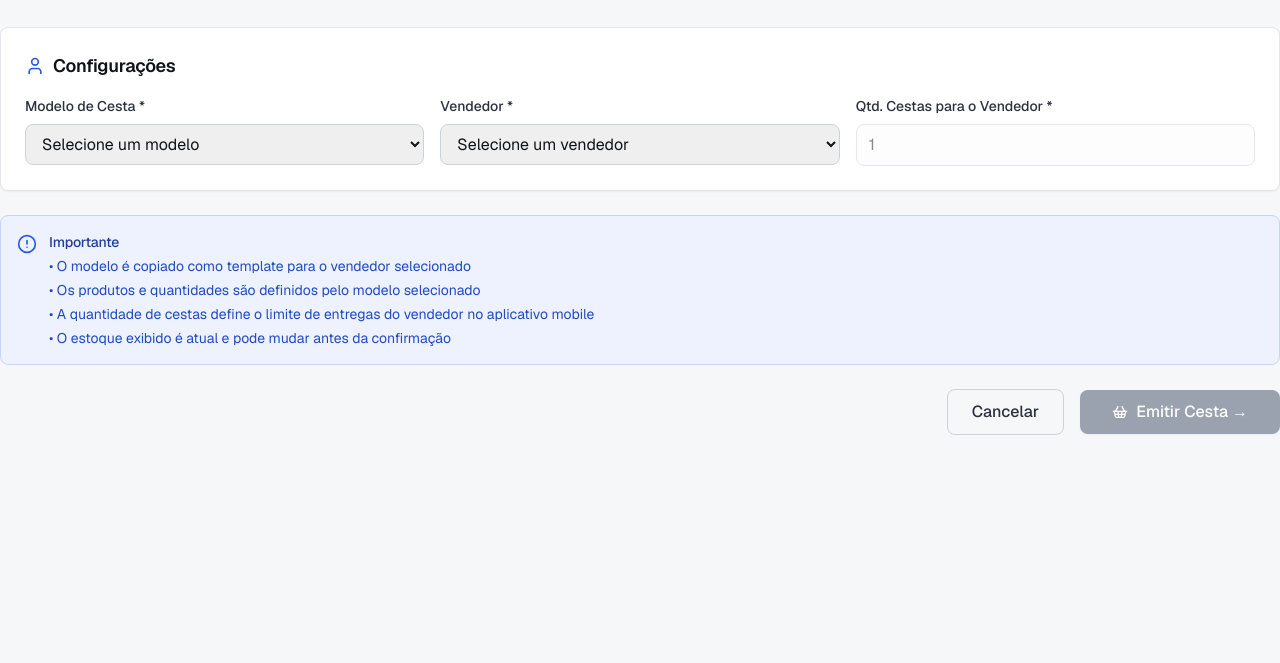
Test: NovaCesta — distribuição via CestaBaseService › 10. erro genérico é exibido no banner
The width and height of the screenshot is (1280, 663).
Select "Cesta Básica — R$ 100,00" in the dropdown below "Modelo de Cesta *" at [225, 144], box [25,124,424,165]
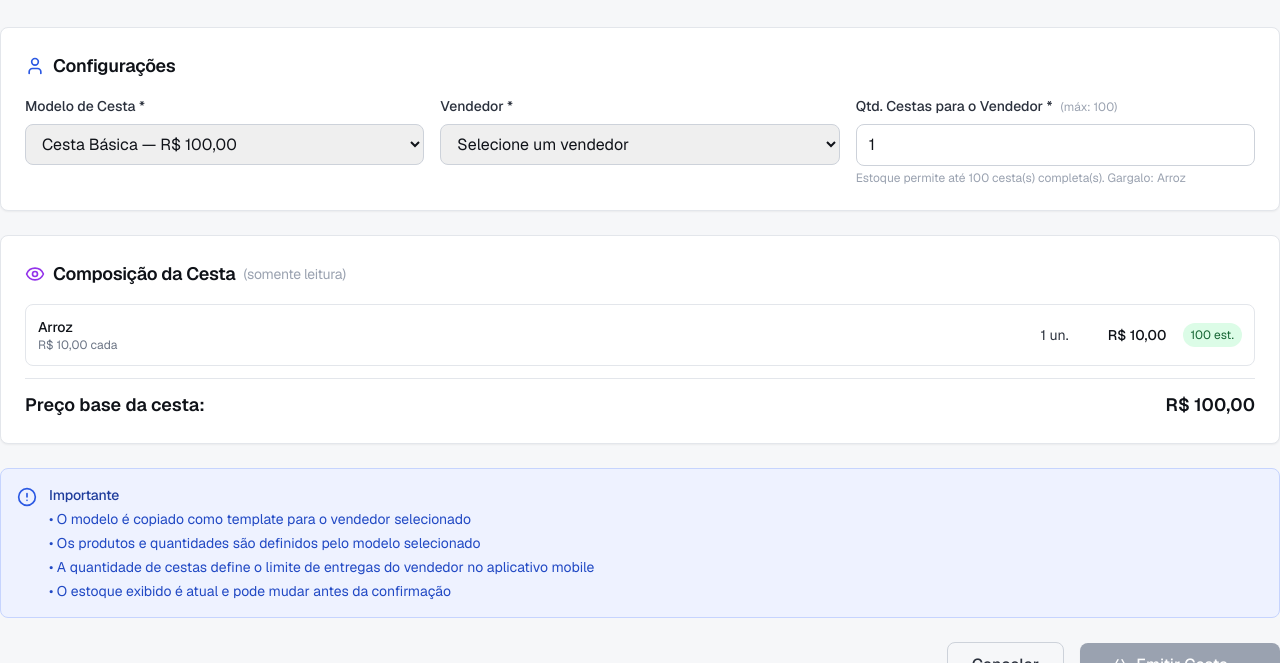
Select "Vendedor Um" in the 2nd dropdown at [640, 144], box [440,124,840,165]
(page scrolled)
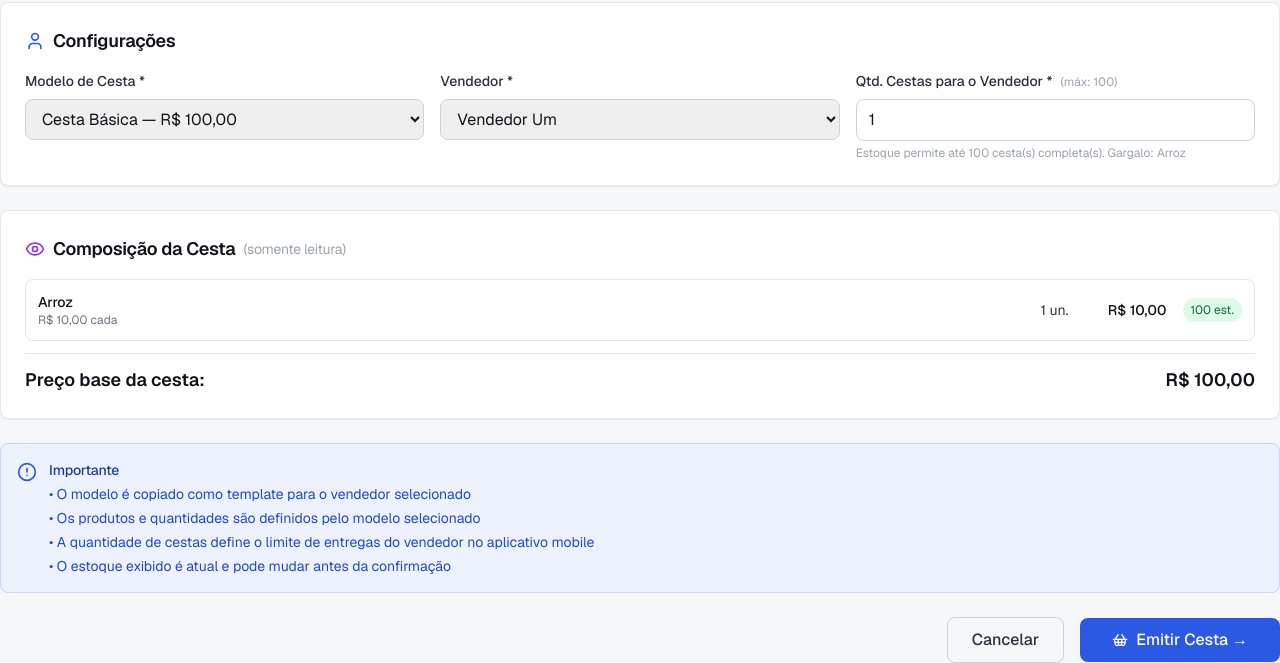
Click the button "Emitir Cesta →".
click(1180, 640)  # box [1080,618,1279,662]
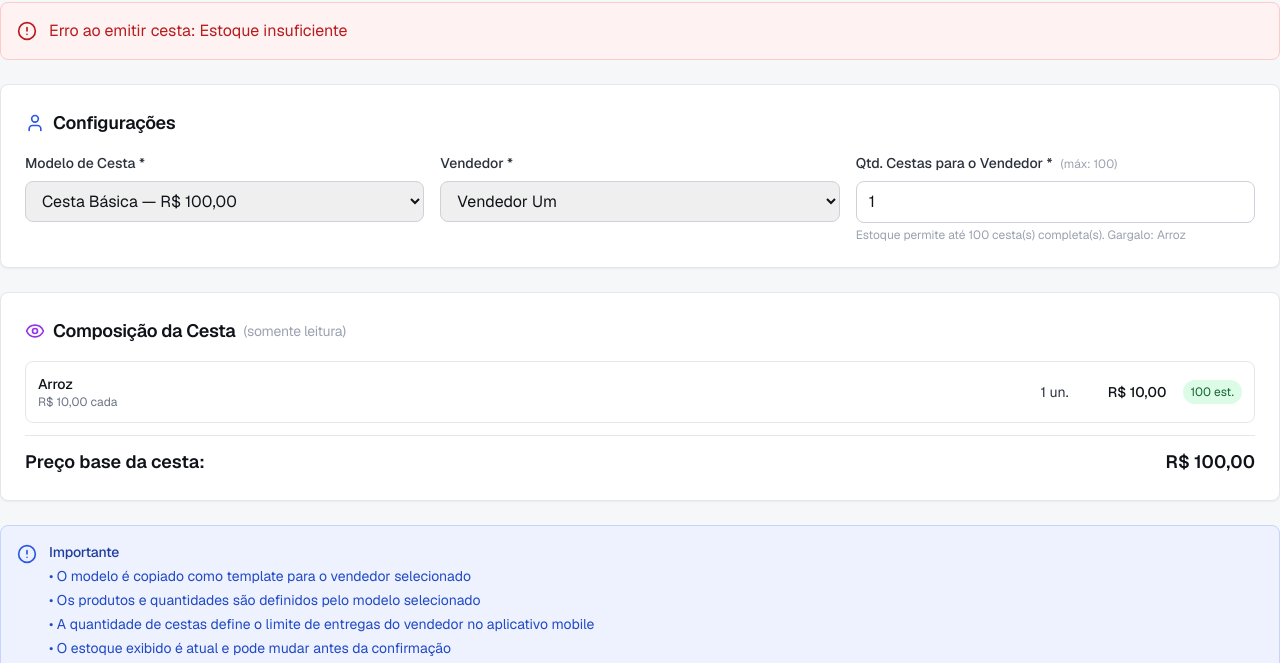
Now the text "Erro ao emitir cesta: Estoque insuficiente" is shown, box [49,19,348,43]
